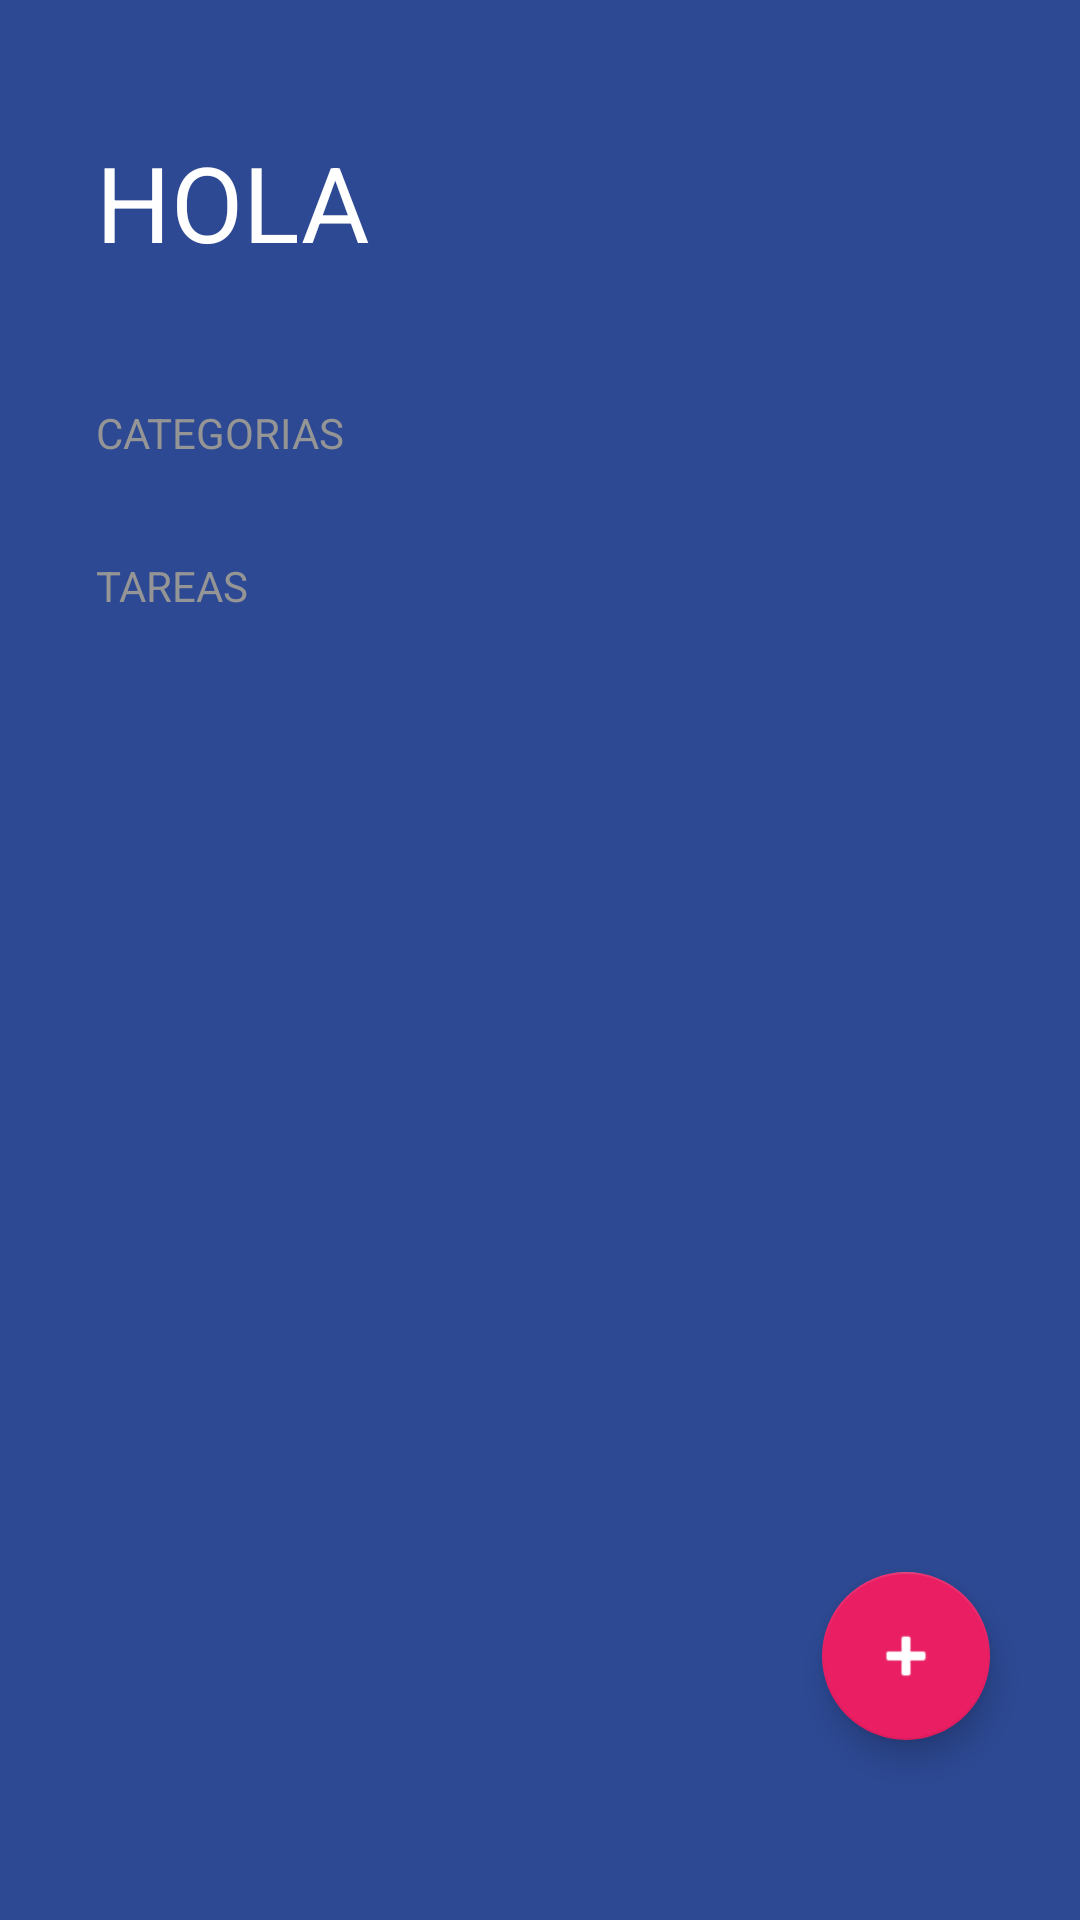

Locate icon controls on the screen. Image size 1080x1920, boxes as bbox=[x1, y1, x2, y2].
add: bbox=[822, 1572, 990, 1740]
